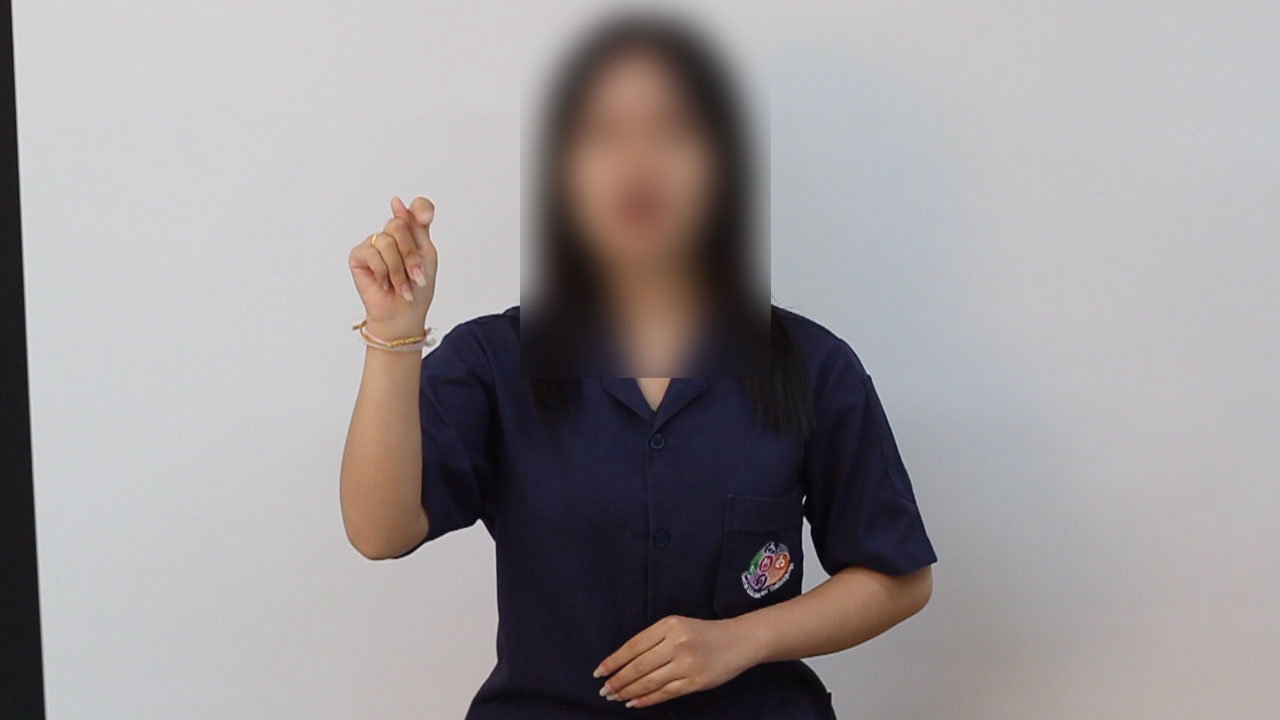tor: (328, 189, 459, 333)
